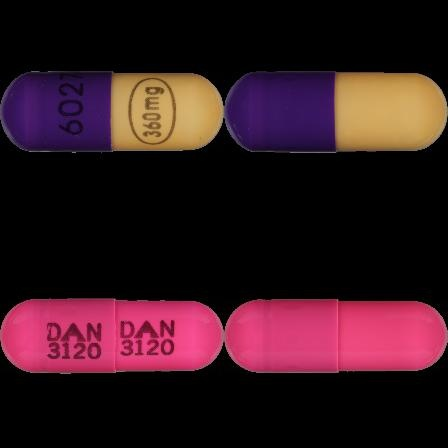0591-2886: (0, 0, 224, 224)
